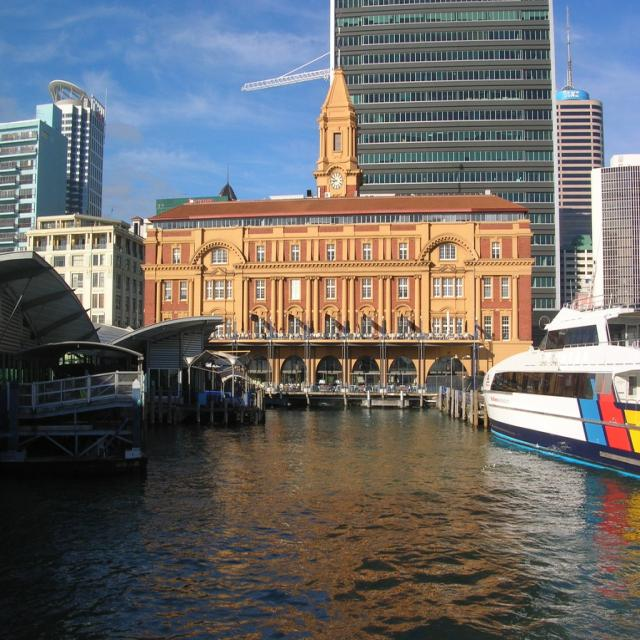Boat: (484, 266, 640, 470)
